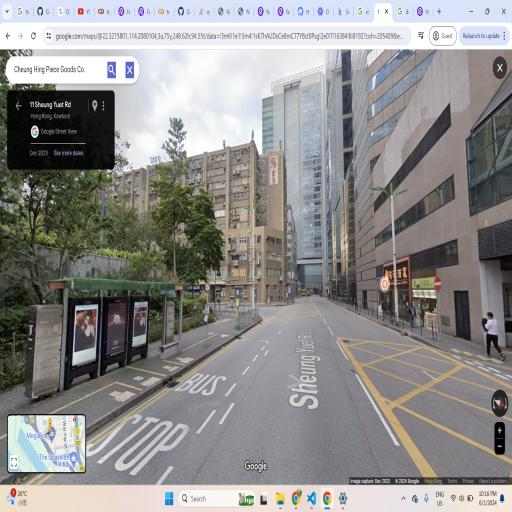Roads: (17, 289, 507, 475)
Trees: (151, 103, 227, 341), (15, 169, 117, 299)
